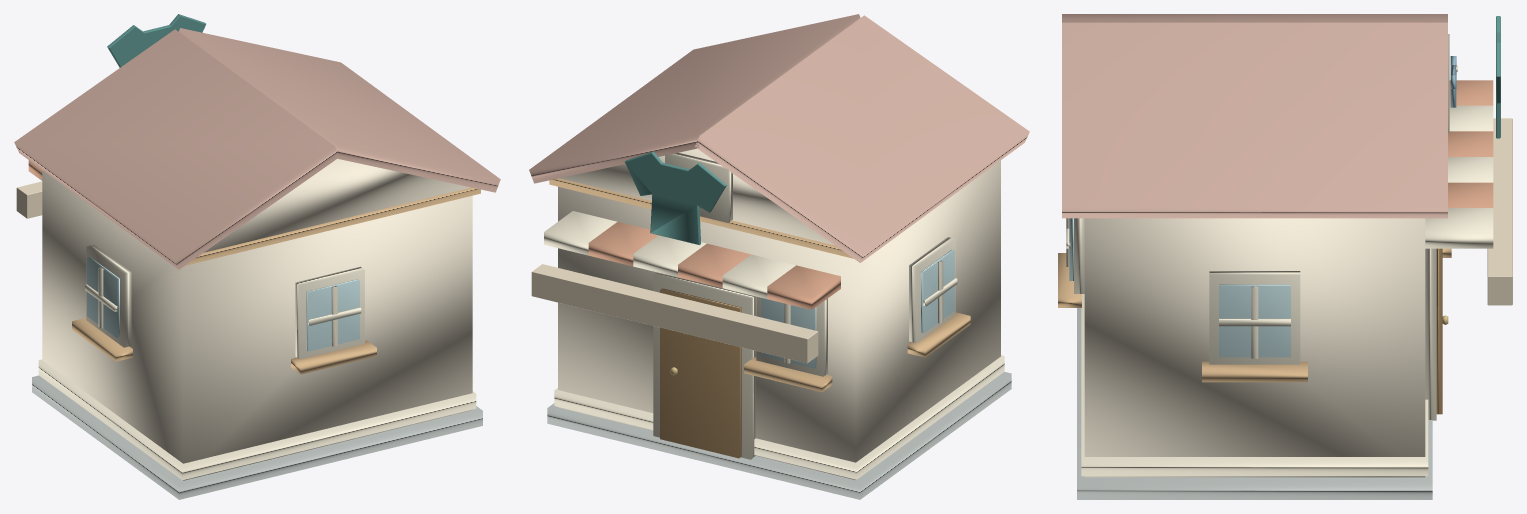
Rendered from avatar_low.glb.
3 views of the same model, side by side, from view 1: azimuth 30°, elevation 25°; view 2: azimuth 150°, elevation 25°; view 3: azimuth 270°, elevation 25° (orthographic). The views are drawn at different scales.
Size of the model in its own units: 3.62 by 3.4 by 3.6.
